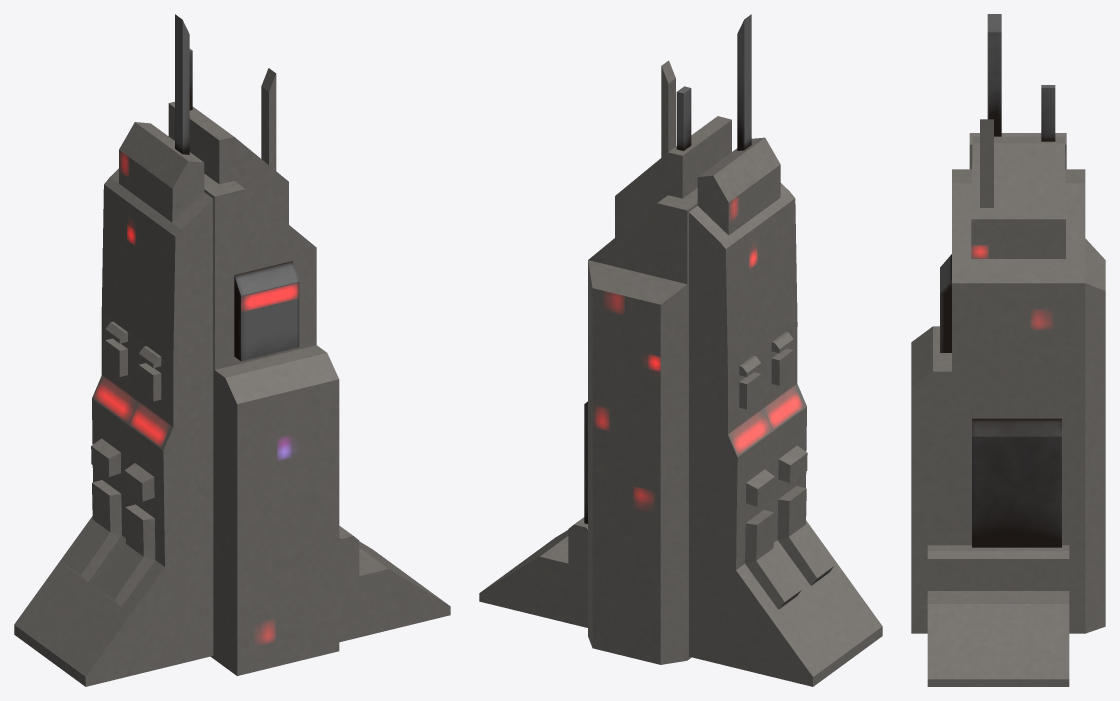
Rendered from SM_BackgroundBuilding.fbx.
3 views of the same model, side by side, from view 1: azimuth 30°, elevation 25°; view 2: azimuth 150°, elevation 25°; view 3: azimuth 270°, elevation 25° (orthographic). The views are drawn at different scales.
Visible parts, largest first — view 1: SM_BackgroundBuilding; view 2: SM_BackgroundBuilding; view 3: SM_BackgroundBuilding.
Boxes of the visible parts, x1,y1,x2,y2 form: SM_BackgroundBuilding: [14, 14, 450, 686]; SM_BackgroundBuilding: [479, 14, 882, 686]; SM_BackgroundBuilding: [911, 14, 1105, 686].
Size of the model in its own units: 2199 by 1166 by 3765.
Materials: 1 (1 with a texture image).
